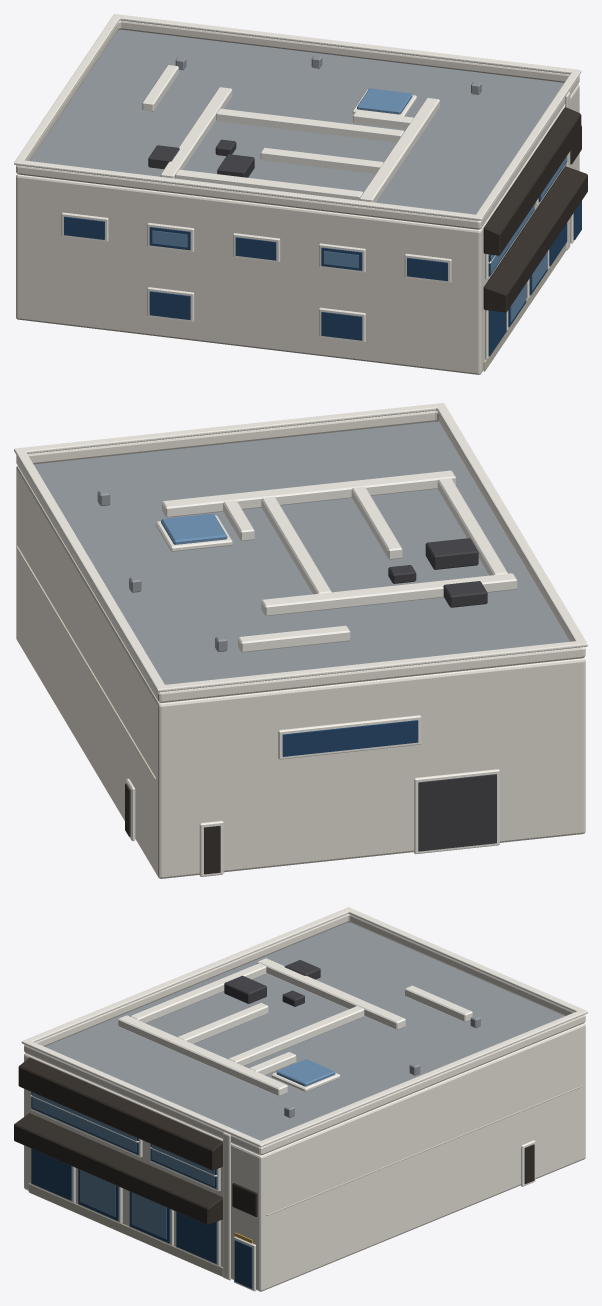
Rendered from 318-brannan.glb.
3 renders of one model, top to bottom at view 1: azimuth 30°, elevation 25°; view 2: azimuth 150°, elevation 25°; view 3: azimuth 270°, elevation 25°, orthographic. The views are drawn at different scales.
Visible parts, largest first — view 1: body, parapet, coping, aw_low_awning, aw_up_awning, duct_br3, duct_trunk_f, duct_br1, duct_trunk_r, duct_br2, skylight, swlo0_fill (+16 smaller); view 2: body, parapet, coping, rear_rollup_fill, duct_trunk_f, duct_trunk_r, rear_win_fill, duct_br3, duct_br1, duct_spur, skylight, duct_br2 (+9 smaller); view 3: body, parapet, coping, aw_low_awning, aw_up_awning, duct_trunk_f, duct_trunk_r, bulkhead, duct_br3, duct_br1, ribbon0_glow, sfront3_fill (+13 smaller).
Boxes of the visible parts, <box> form: body: <box>16,29,579,374</box>; parapet: <box>16,20,579,229</box>; coping: <box>14,14,581,220</box>; aw_low_awning: <box>483,166,587,312</box>; aw_up_awning: <box>483,107,581,255</box>; duct_br3: <box>216,108,403,142</box>; duct_trunk_f: <box>359,98,439,202</box>; duct_br1: <box>175,169,362,200</box>; duct_trunk_r: <box>160,87,232,178</box>; duct_br2: <box>260,147,383,173</box>; skylight: <box>357,88,412,114</box>; swlo0_fill: <box>149,291,190,319</box>; body: <box>16,421,585,878</box>; parapet: <box>16,410,585,702</box>; coping: <box>14,403,587,692</box>; rear_rollup_fill: <box>418,774,496,851</box>; duct_trunk_f: <box>162,470,455,517</box>; duct_trunk_r: <box>261,573,517,616</box>; rear_win_fill: <box>282,720,418,756</box>; duct_br3: <box>261,497,331,594</box>; duct_br1: <box>437,478,507,575</box>; duct_spur: <box>238,625,350,652</box>; skylight: <box>161,513,227,544</box>; duct_br2: <box>351,486,402,559</box>; body: <box>24,922,585,1291</box>; parapet: <box>24,914,585,1155</box>; coping: <box>21,907,587,1147</box>; aw_low_awning: <box>14,1113,222,1225</box>; aw_up_awning: <box>18,1057,222,1170</box>; duct_trunk_f: <box>118,1015,287,1096</box>; duct_trunk_r: <box>257,958,405,1029</box>; bulkhead: <box>28,1183,222,1276</box>; duct_br3: <box>228,1006,364,1065</box>; duct_br1: <box>130,963,266,1023</box>; ribbon0_glow: <box>32,1092,136,1152</box>; sfront3_fill: <box>176,1211,216,1263</box>.
Bounding box in the file's own units: 29.65 × 8.6 × 30.18.
